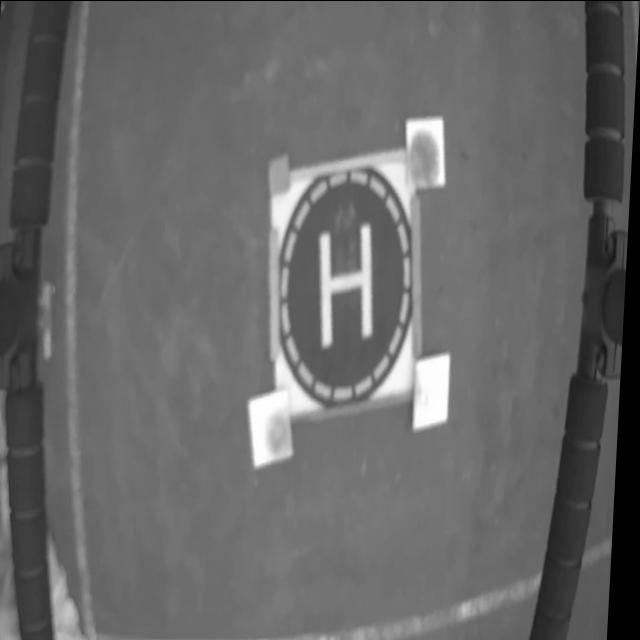Helipad: (319, 220, 376, 346)
